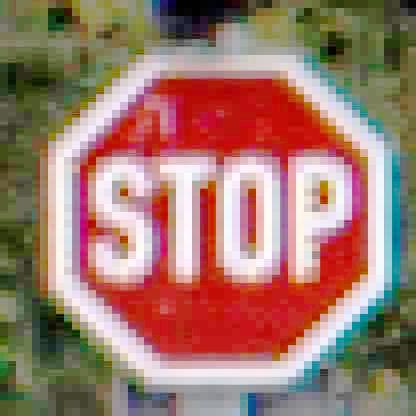Stop Sign: (46, 50, 398, 390)
